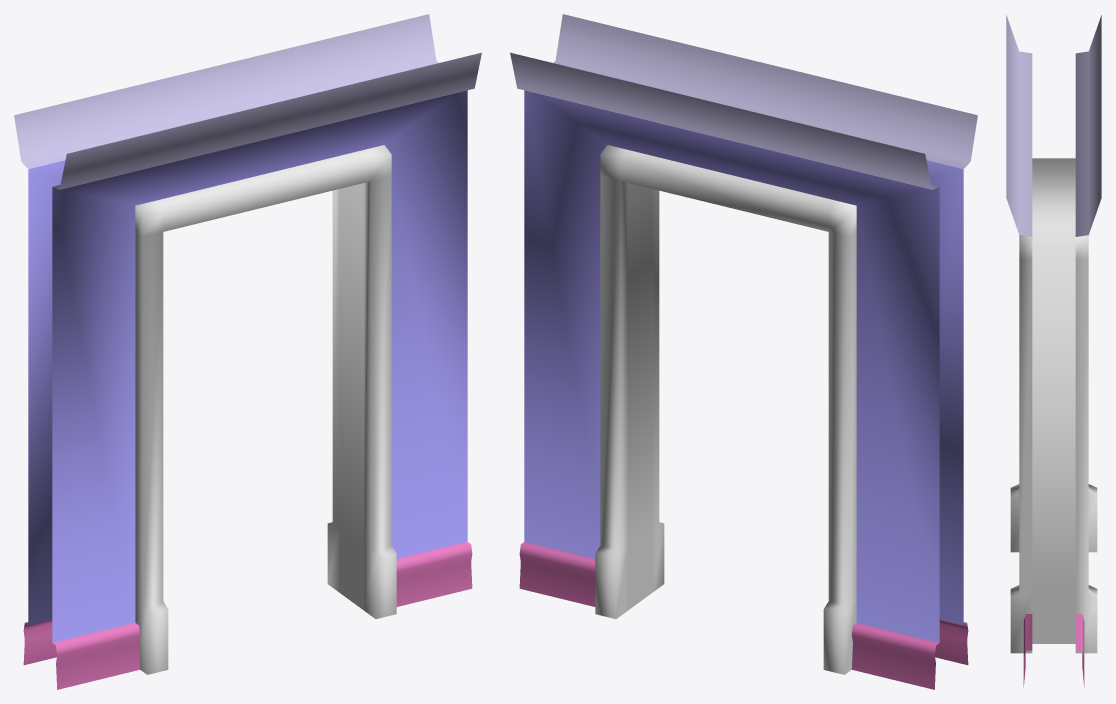
Rendered from door_wall.glb.
The picture shows the model from 3 angles, left to right: view 1: azimuth 30°, elevation 25°; view 2: azimuth 150°, elevation 25°; view 3: azimuth 270°, elevation 25°; orthographic projection. The views are drawn at different scales.
Visible parts, largest first — view 1: Wall, Frame; view 2: Wall, Frame; view 3: Frame, Wall.
Part boxes in pixels (x1,y1,x2,y2): Wall: (14,14,481,689); Frame: (135,145,396,674); Wall: (510,14,977,689); Frame: (595,145,856,674); Frame: (1010,158,1097,653); Wall: (1006,15,1101,686).
Bounding box in the file's own units: 2 × 2.5 × 0.44.
